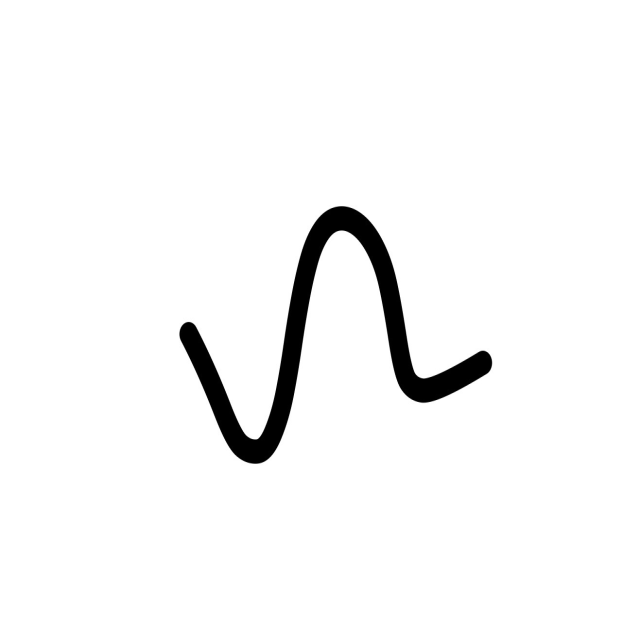ohms: (109, 122, 550, 518)
